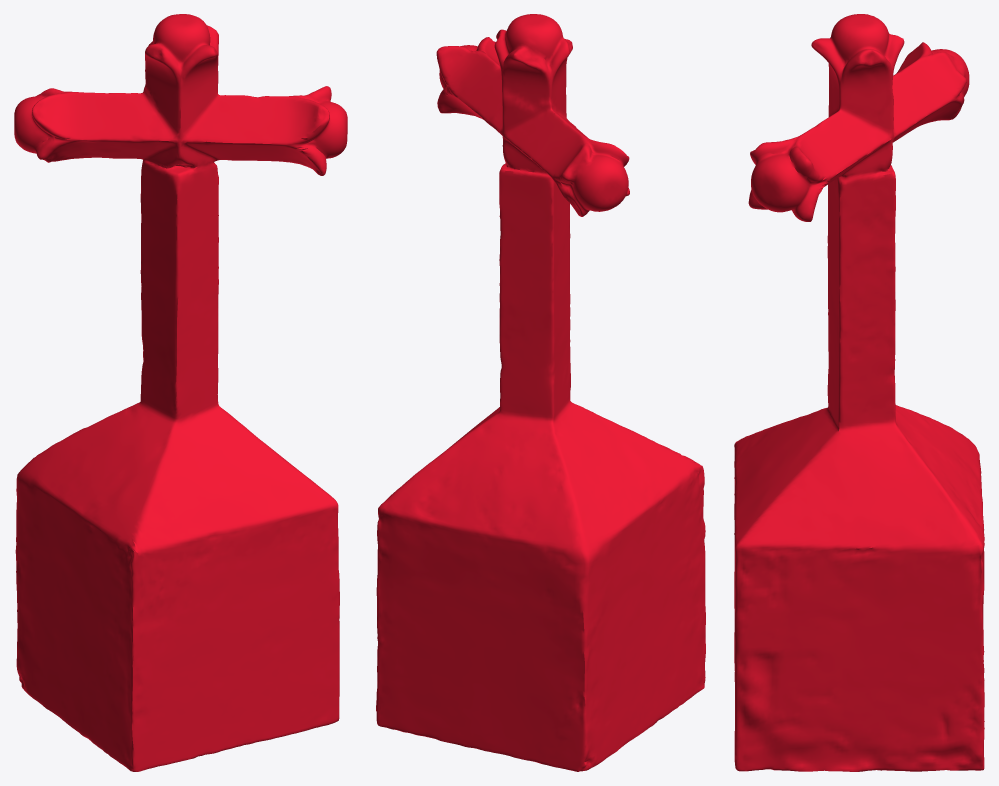
3 renders of one model, left to right at view 1: azimuth 30°, elevation 25°; view 2: azimuth 150°, elevation 25°; view 3: azimuth 270°, elevation 25°, orthographic. The views are drawn at different scales.
Visible parts, largest first — view 1: Object_2; view 2: Object_2; view 3: Object_2.
Part boxes in pixels (box(x1,y1,x2,y2)): Object_2: box(14, 14, 347, 771); Object_2: box(376, 14, 705, 771); Object_2: box(734, 14, 984, 771).
Size of the model in its own units: 0.3933 by 1 by 0.3229.
